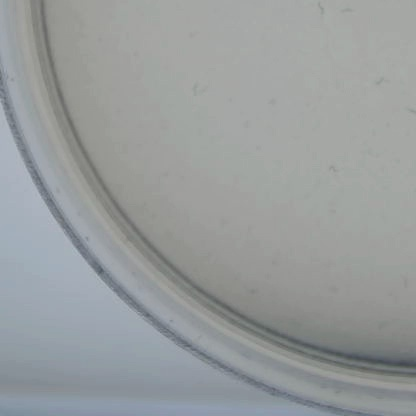worm: (178, 77, 209, 103), (314, 162, 344, 182), (365, 73, 395, 90), (307, 0, 330, 21), (339, 1, 358, 17), (403, 102, 416, 123), (398, 271, 411, 289)
